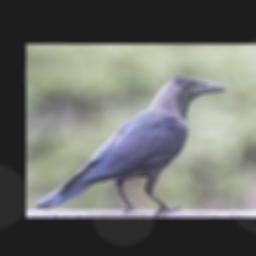Crow: (33, 75, 224, 215)
